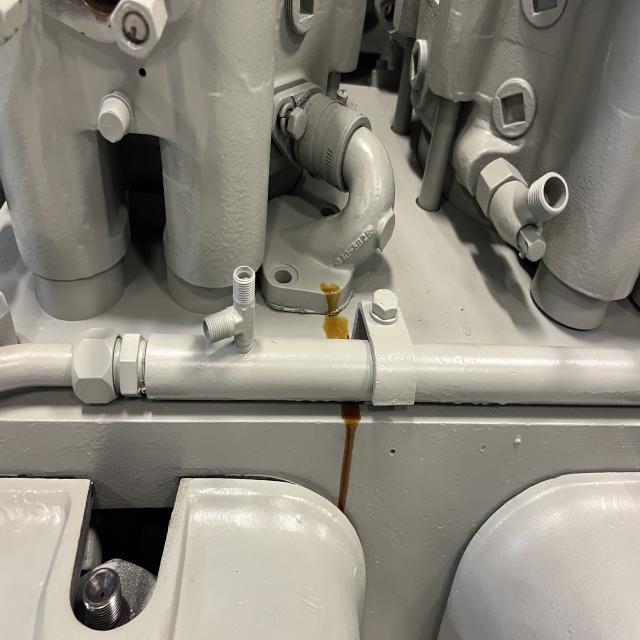Oil Leak: (337, 402, 360, 513), (320, 283, 349, 339)
